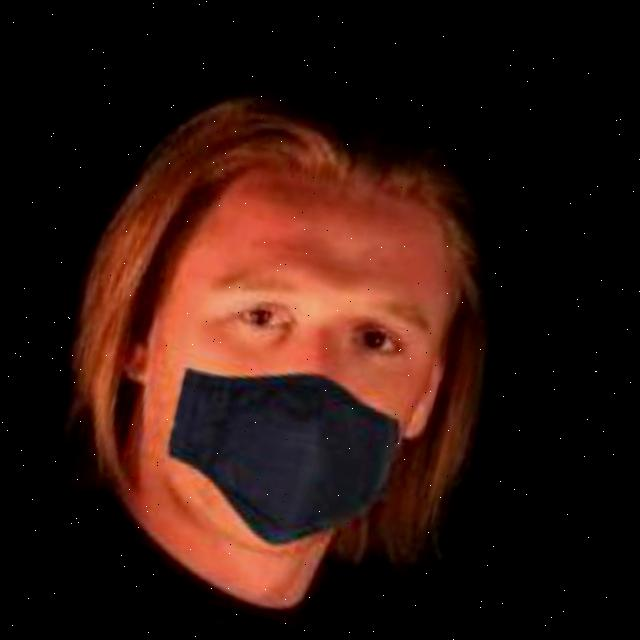suspicion: (85, 130, 489, 556)
